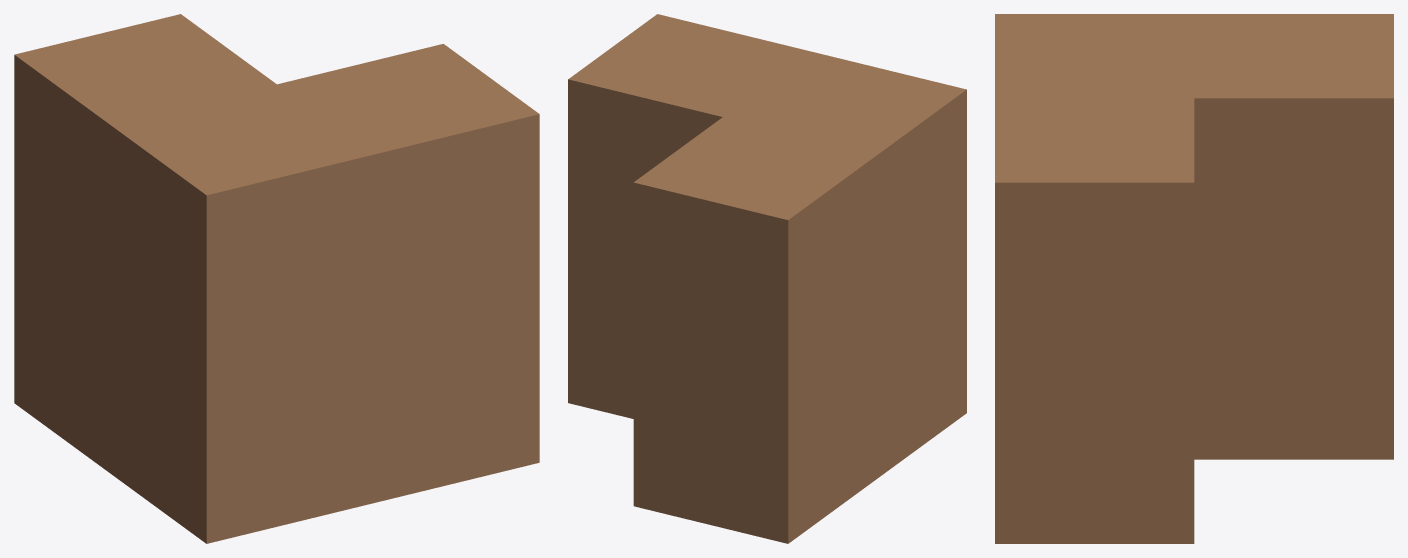
Rendered from humanoid-71-hands.obj.
3 views of the same model, side by side, from view 1: azimuth 30°, elevation 25°; view 2: azimuth 150°, elevation 25°; view 3: azimuth 270°, elevation 25° (orthographic). The views are drawn at different scales.
Visible parts, largest first — view 1: hands; view 2: hands; view 3: hands.
Part boxes in pixels (box(x1,y1,x2,y2)): hands: box(14, 14, 539, 543); hands: box(568, 14, 966, 543); hands: box(995, 14, 1393, 543).
Size of the model in its own units: 0.2 by 0.2 by 0.2.
Materials: 1 (1 with a texture image).
